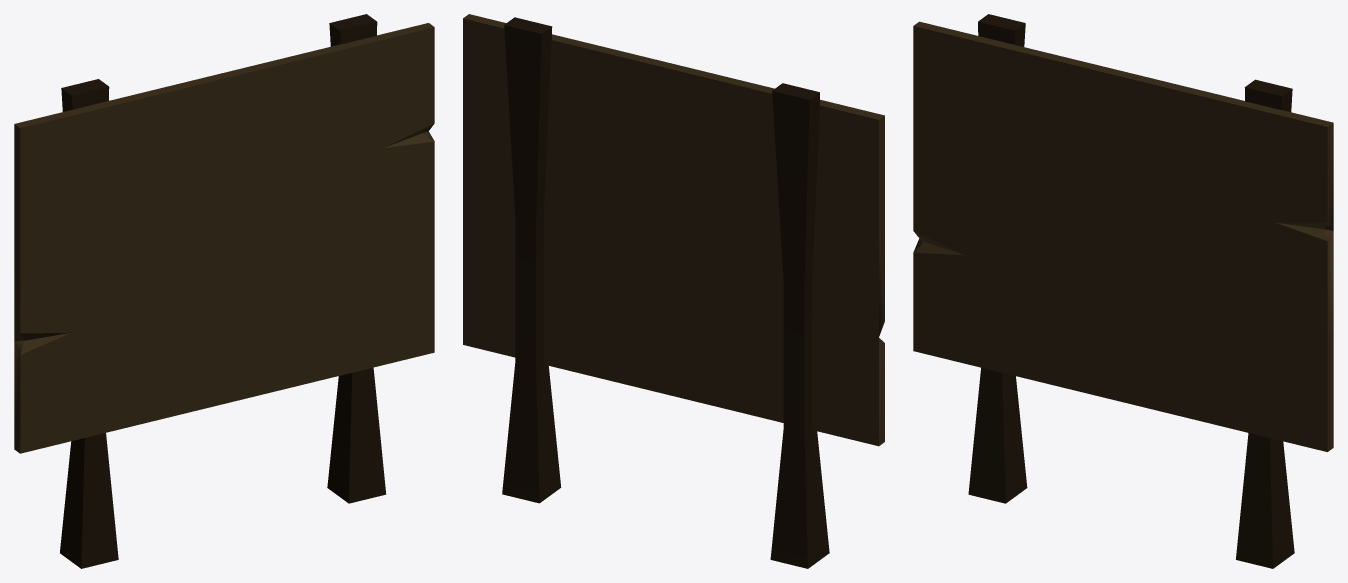
The model's file is CartelTutorial.fbx.
The picture shows the model from 3 angles, left to right: view 1: azimuth 30°, elevation 25°; view 2: azimuth 150°, elevation 25°; view 3: azimuth 330°, elevation 25°; orthographic projection.
Visible parts, largest first — view 1: Box024; view 2: Box024; view 3: Box024.
Boxes of the visible parts, x1,y1,x2,y2 form: Box024: (14,14,434,568); Box024: (463,14,884,568); Box024: (913,14,1333,568).
Bounding box in the file's own units: 2 × 2.15 × 0.1802.
